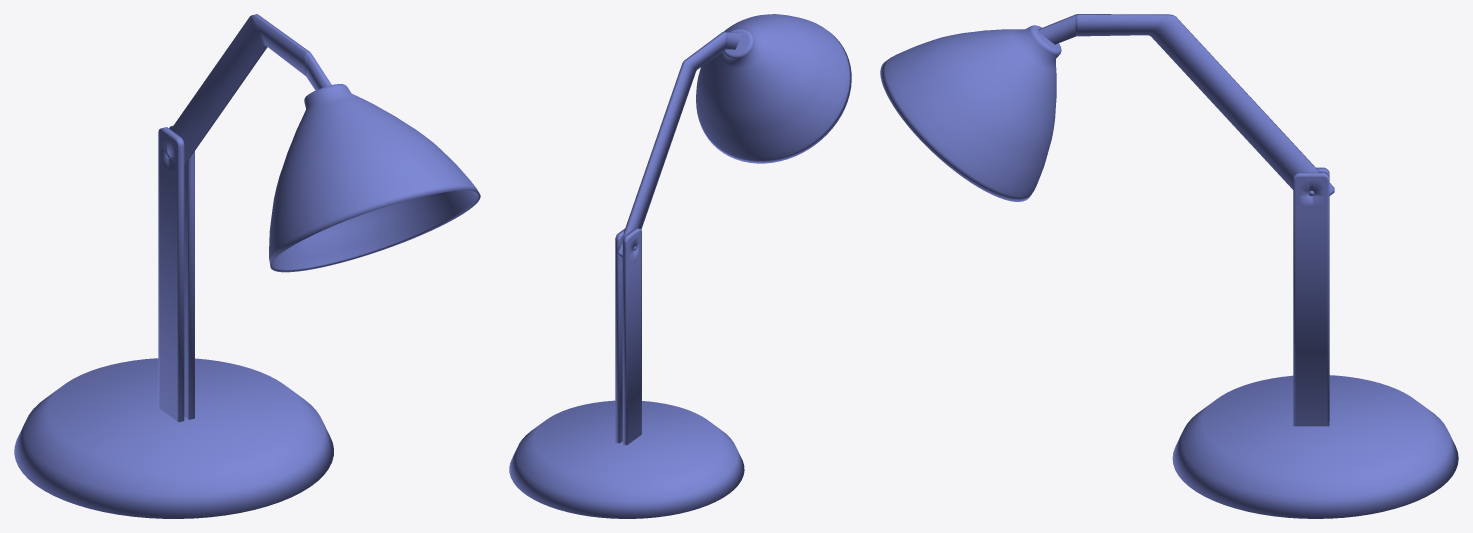
3 renders of one model, left to right at view 1: azimuth 30°, elevation 25°; view 2: azimuth 150°, elevation 25°; view 3: azimuth 270°, elevation 25°, orthographic. The views are drawn at different scales.
Parts seen in each view (by area): view 1: Circle; view 2: Circle; view 3: Circle.
Part boxes in pixels (x1,y1,x2,y2): Circle: (14,14,480,518); Circle: (509,14,851,518); Circle: (880,14,1458,518).
Size of the model in its own units: 0.2261 by 0.457 by 0.3868.
